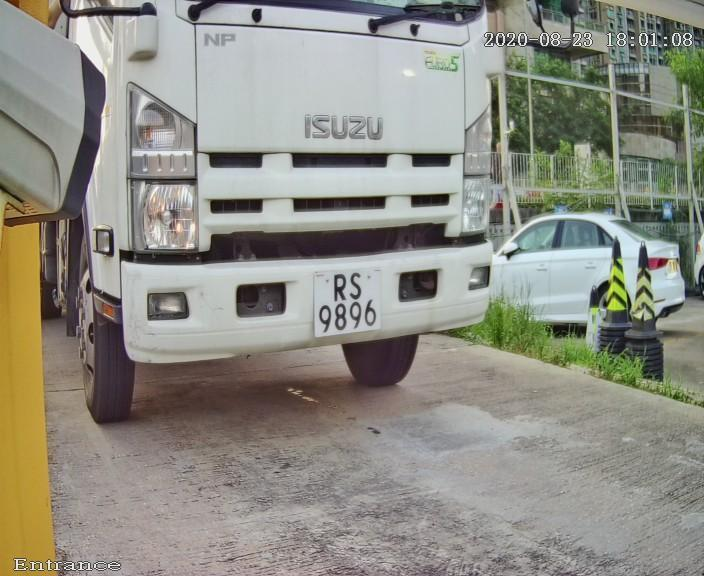License Plate: (273, 245, 418, 369)
